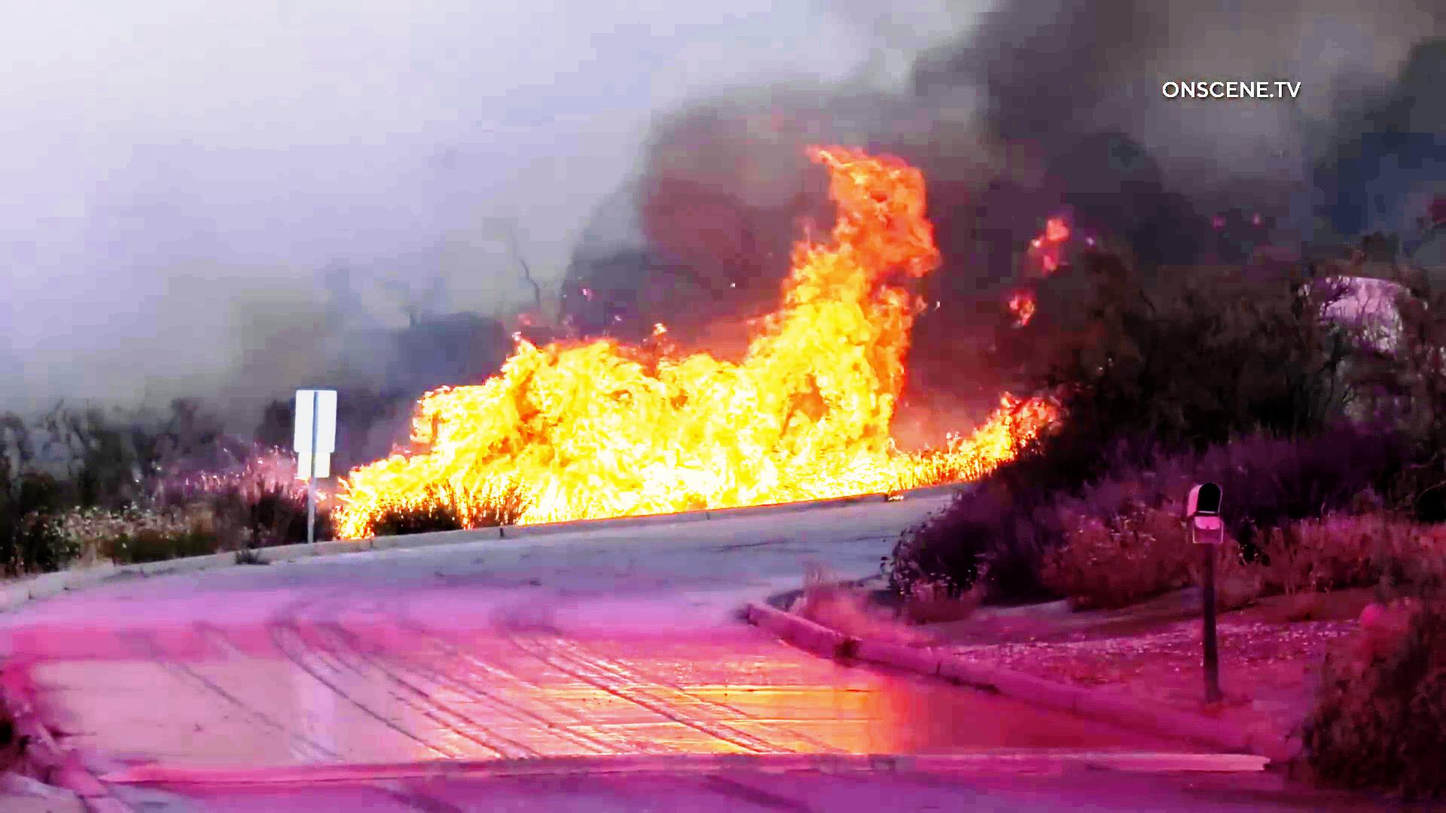fire: (366, 315, 776, 520), (715, 160, 946, 496)
